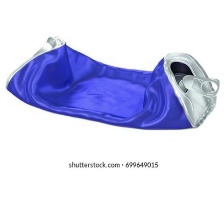can: (4, 26, 221, 133)
